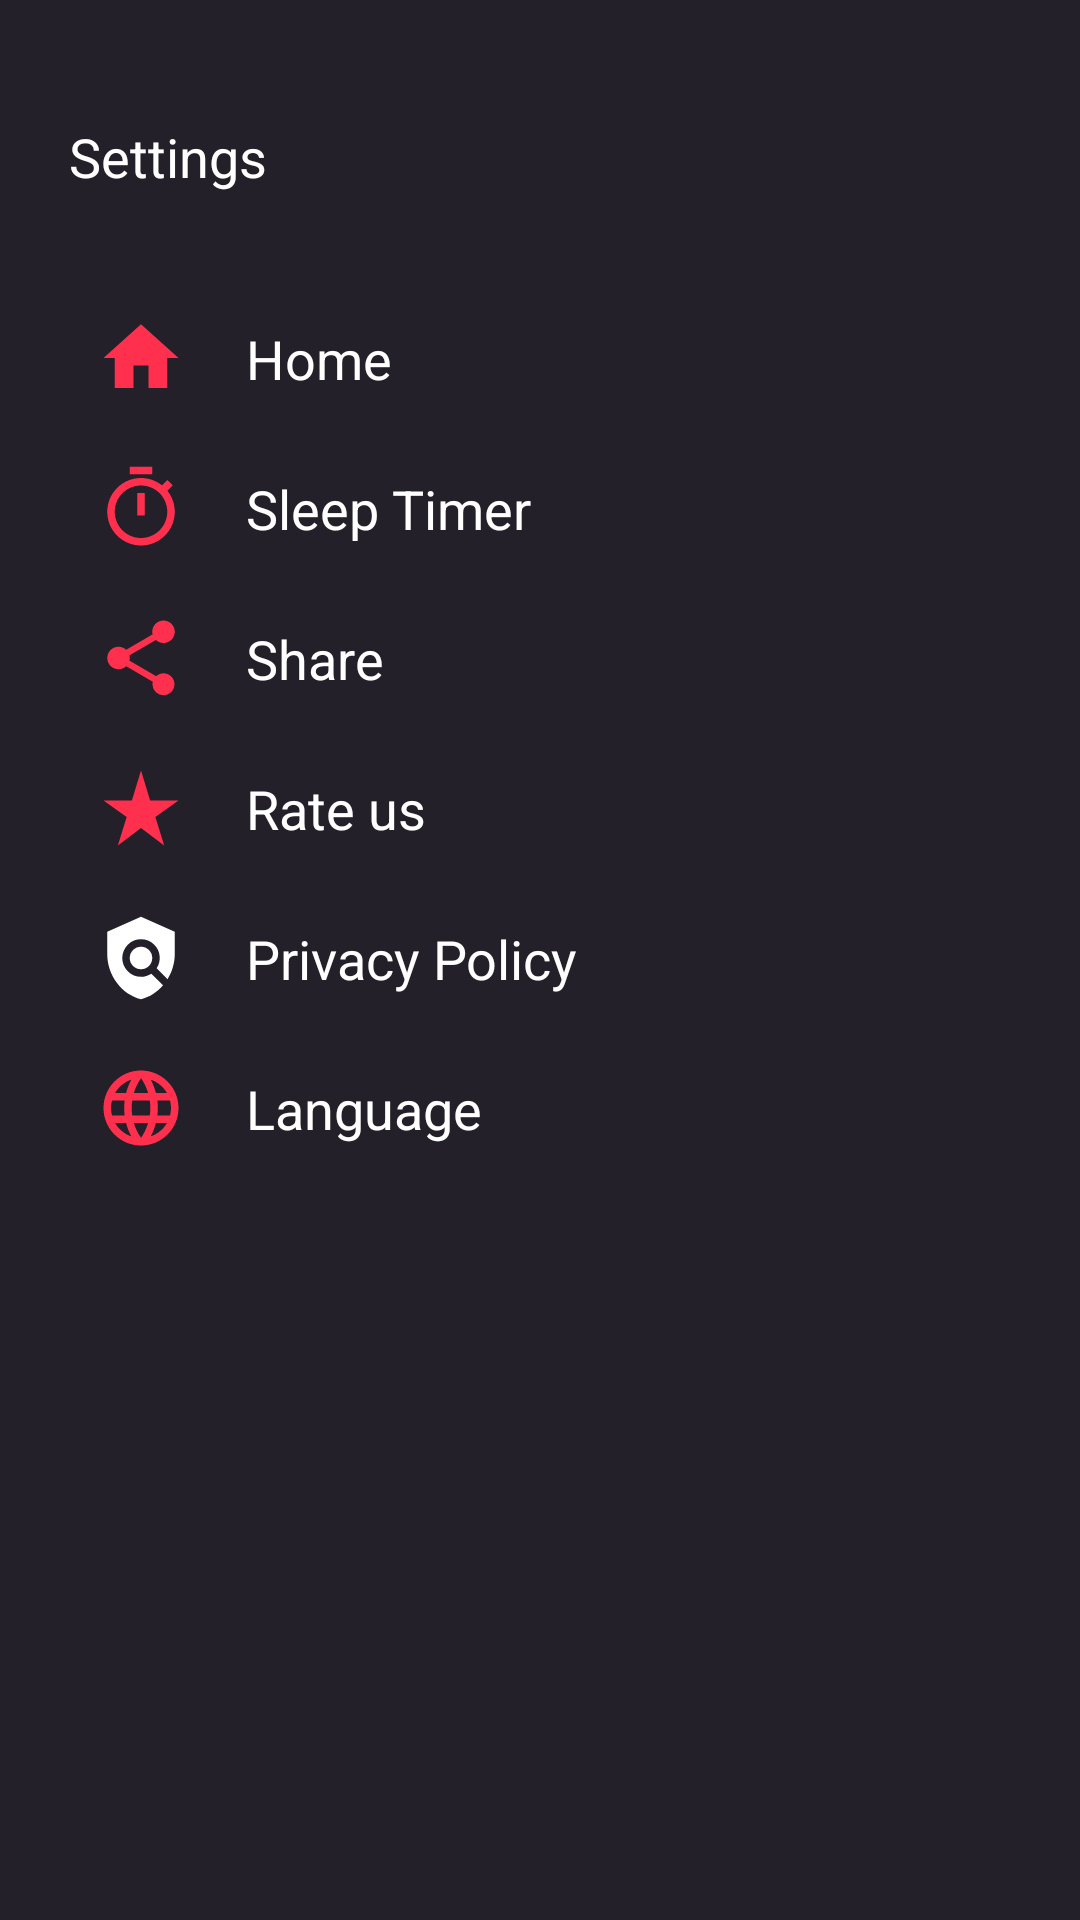

Point at icon controls on the screen. Image size 1080×1920, points as (x,y).
star rate: (141,808)
